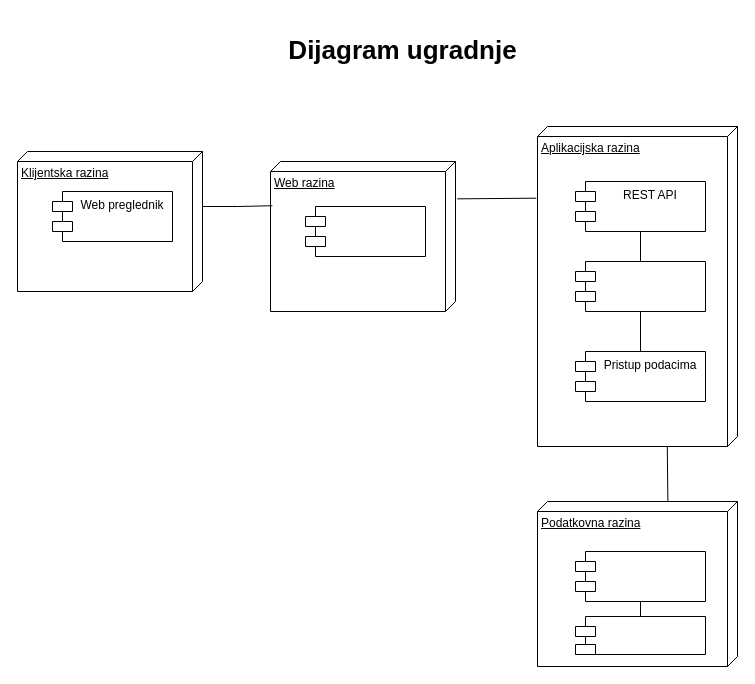
Image size: 755x684. Some labels were removed from this diagram. Each missing label, with the centre of its shape:
Pohrana dokumenata: (x=640, y=635)
Poslovna logika: (x=640, y=286)
SQL baza podataka: (x=640, y=576)
Web aplikacija: (x=365, y=231)
